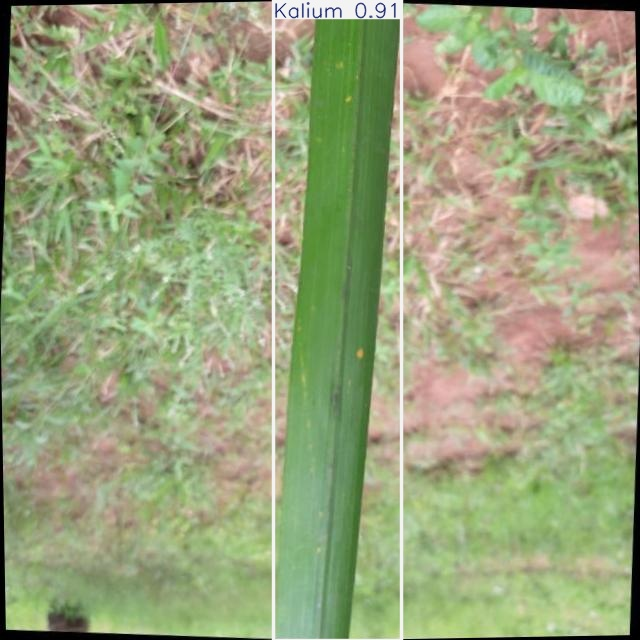Kalium: (273, 0, 401, 640)
